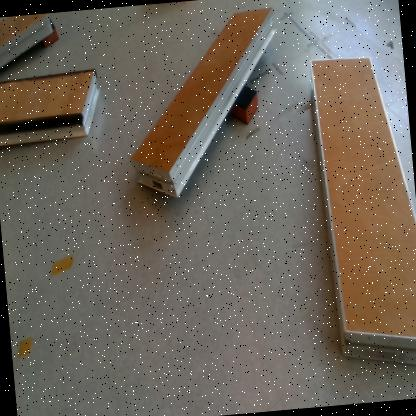Stairs: (310, 54, 416, 366), (128, 7, 277, 203), (1, 70, 102, 147), (1, 14, 56, 70)
